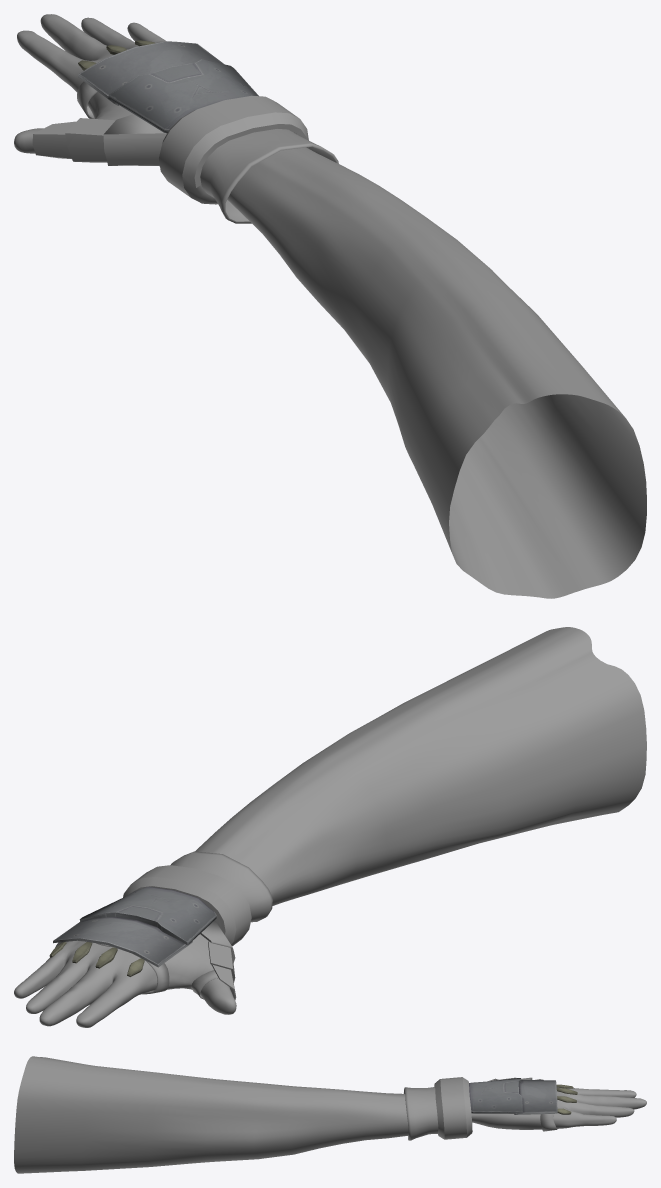
Rendered from hand_v2.FBX.
The picture shows the model from 3 angles, top to bottom: view 1: azimuth 30°, elevation 25°; view 2: azimuth 150°, elevation 25°; view 3: azimuth 270°, elevation 25°; orthographic projection. The views are drawn at different scales.
Visible parts, largest first — view 1: HandLP, Cuff, UpperplateLP, GloveCuff, lowerplate, thumbplatebase, thumbplatemid, thumbplatetop; view 2: HandLP, Cuff, UpperplateLP, lowerplate, GloveCuff, thumbplatemid; view 3: HandLP, Cuff, UpperplateLP, GloveCuff, lowerplate, handstrap.
Part boxes in pixels (x1,y1,x2,y2): HandLP: [14, 14, 646, 598]; Cuff: [159, 95, 308, 204]; UpperplateLP: [108, 59, 258, 133]; GloveCuff: [200, 129, 338, 223]; lowerplate: [78, 41, 224, 105]; thumbplatebase: [103, 114, 166, 166]; thumbplatemid: [65, 118, 115, 162]; thumbplatetop: [32, 121, 75, 158]; HandLP: [14, 627, 646, 1027]; Cuff: [123, 865, 251, 946]; UpperplateLP: [79, 886, 216, 945]; lowerplate: [53, 916, 192, 967]; GloveCuff: [171, 851, 272, 922]; thumbplatemid: [208, 941, 235, 982]; HandLP: [14, 1056, 646, 1173]; Cuff: [434, 1077, 472, 1139]; UpperplateLP: [469, 1078, 522, 1113]; GloveCuff: [403, 1087, 438, 1140]; lowerplate: [514, 1080, 557, 1114]; handstrap: [540, 1114, 557, 1131].
Bounding box in the file's own units: 19.19 × 16.06 × 84.44.
